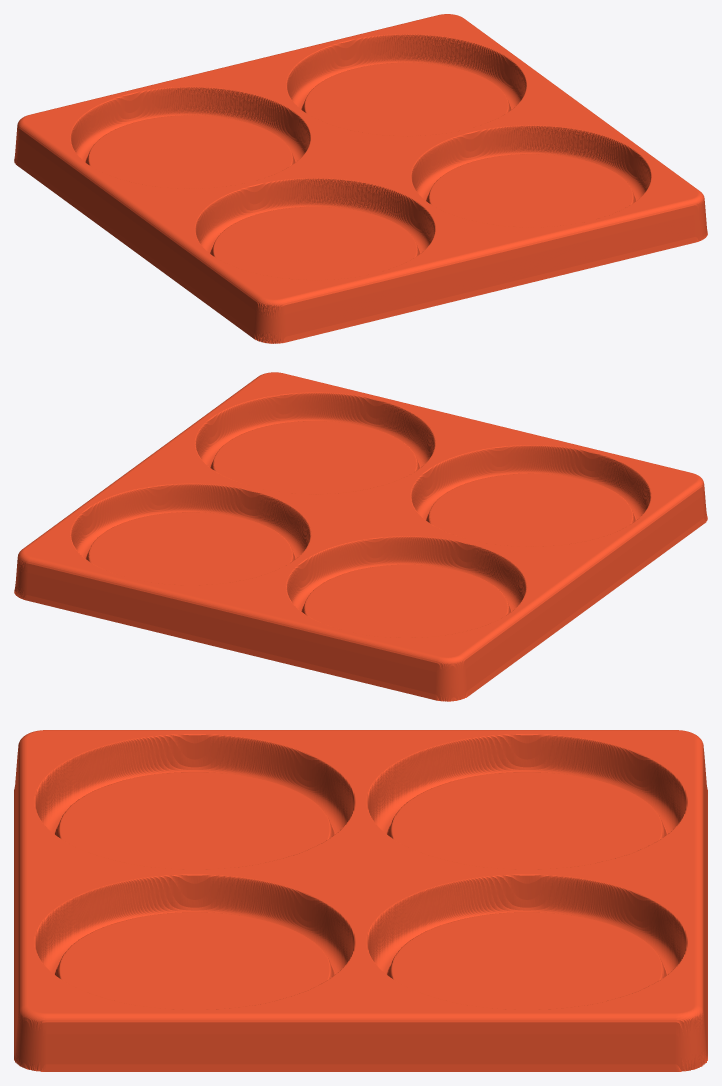
The model's file is mold.glb.
3 renders of one model, top to bottom at view 1: azimuth 30°, elevation 25°; view 2: azimuth 150°, elevation 25°; view 3: azimuth 270°, elevation 25°, orthographic. The views are drawn at different scales.
Visible parts, largest first — view 1: geometry_0; view 2: geometry_0; view 3: geometry_0.
Boxes of the visible parts, x1,y1,x2,y2 form: geometry_0: (14, 14, 707, 343); geometry_0: (14, 372, 707, 701); geometry_0: (14, 730, 707, 1071).
Size of the model in its own units: 0.1946 by 0.0165 by 0.1946.
